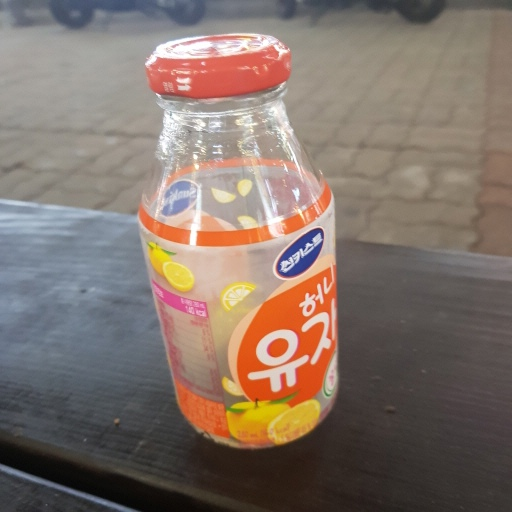Glass_4: (131, 31, 349, 447)
